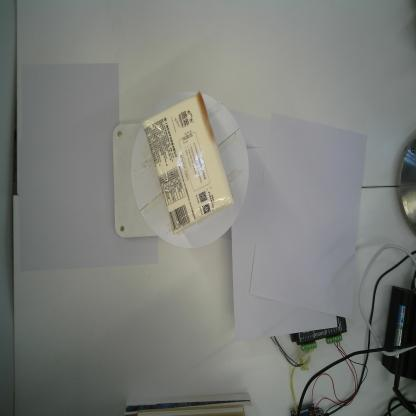Tissue: (142, 92, 235, 235)
